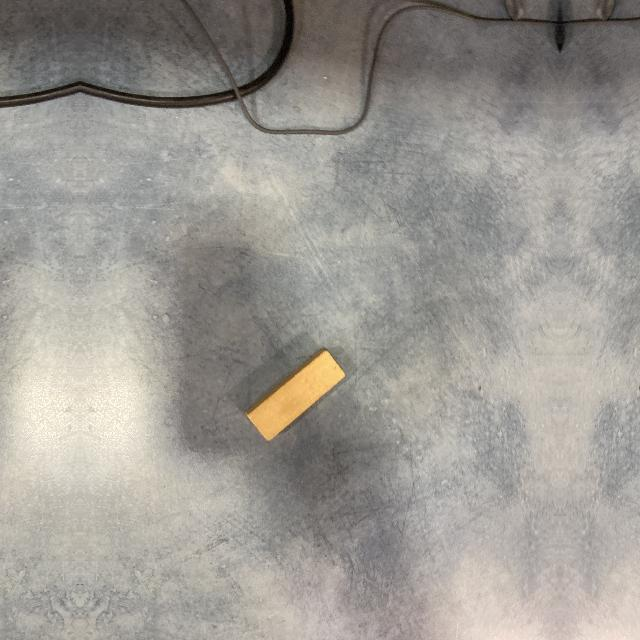jenga: (244, 346, 346, 440)
